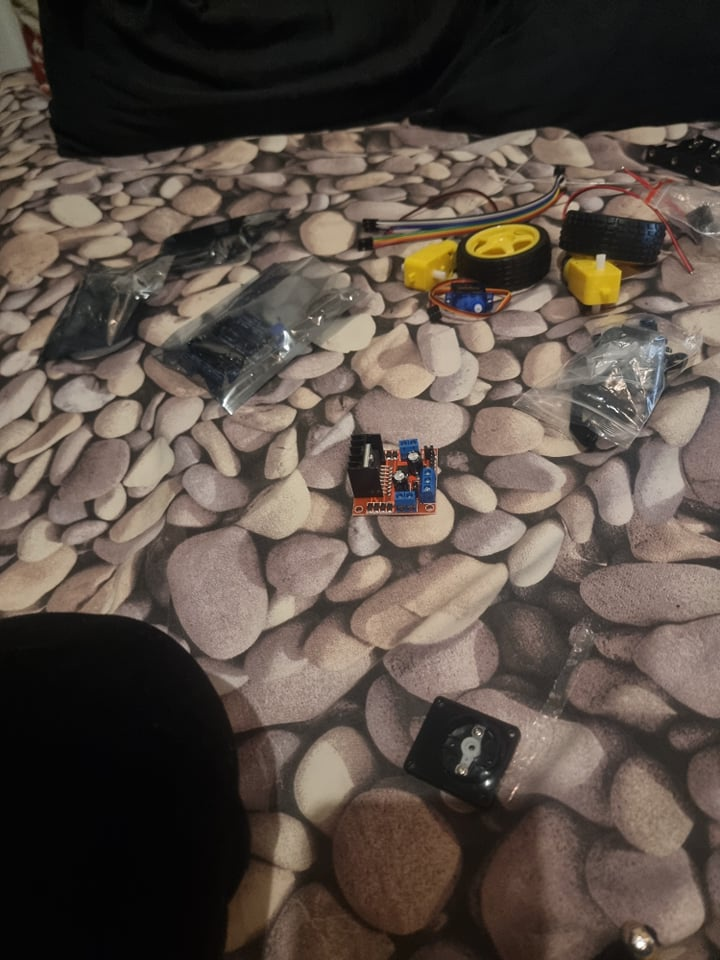BATTERY BOX: (645, 130, 720, 185)
MOTOR: (342, 431, 437, 519)
